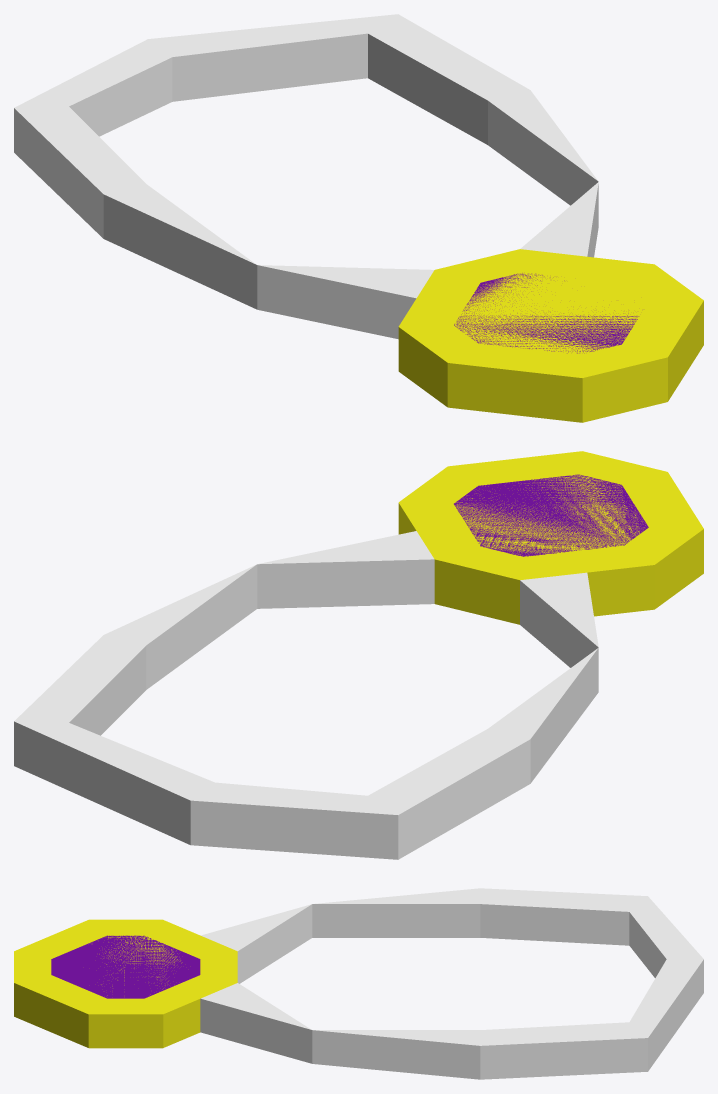
Rendered from jewelry-teleports.gltf.
3 renders of one model, top to bottom at view 1: azimuth 30°, elevation 25°; view 2: azimuth 150°, elevation 25°; view 3: azimuth 270°, elevation 25°, orthographic. The views are drawn at different scales.
Bounding box in the file's own units: 20 × 2 × 37.
1 material, 1 textured.
